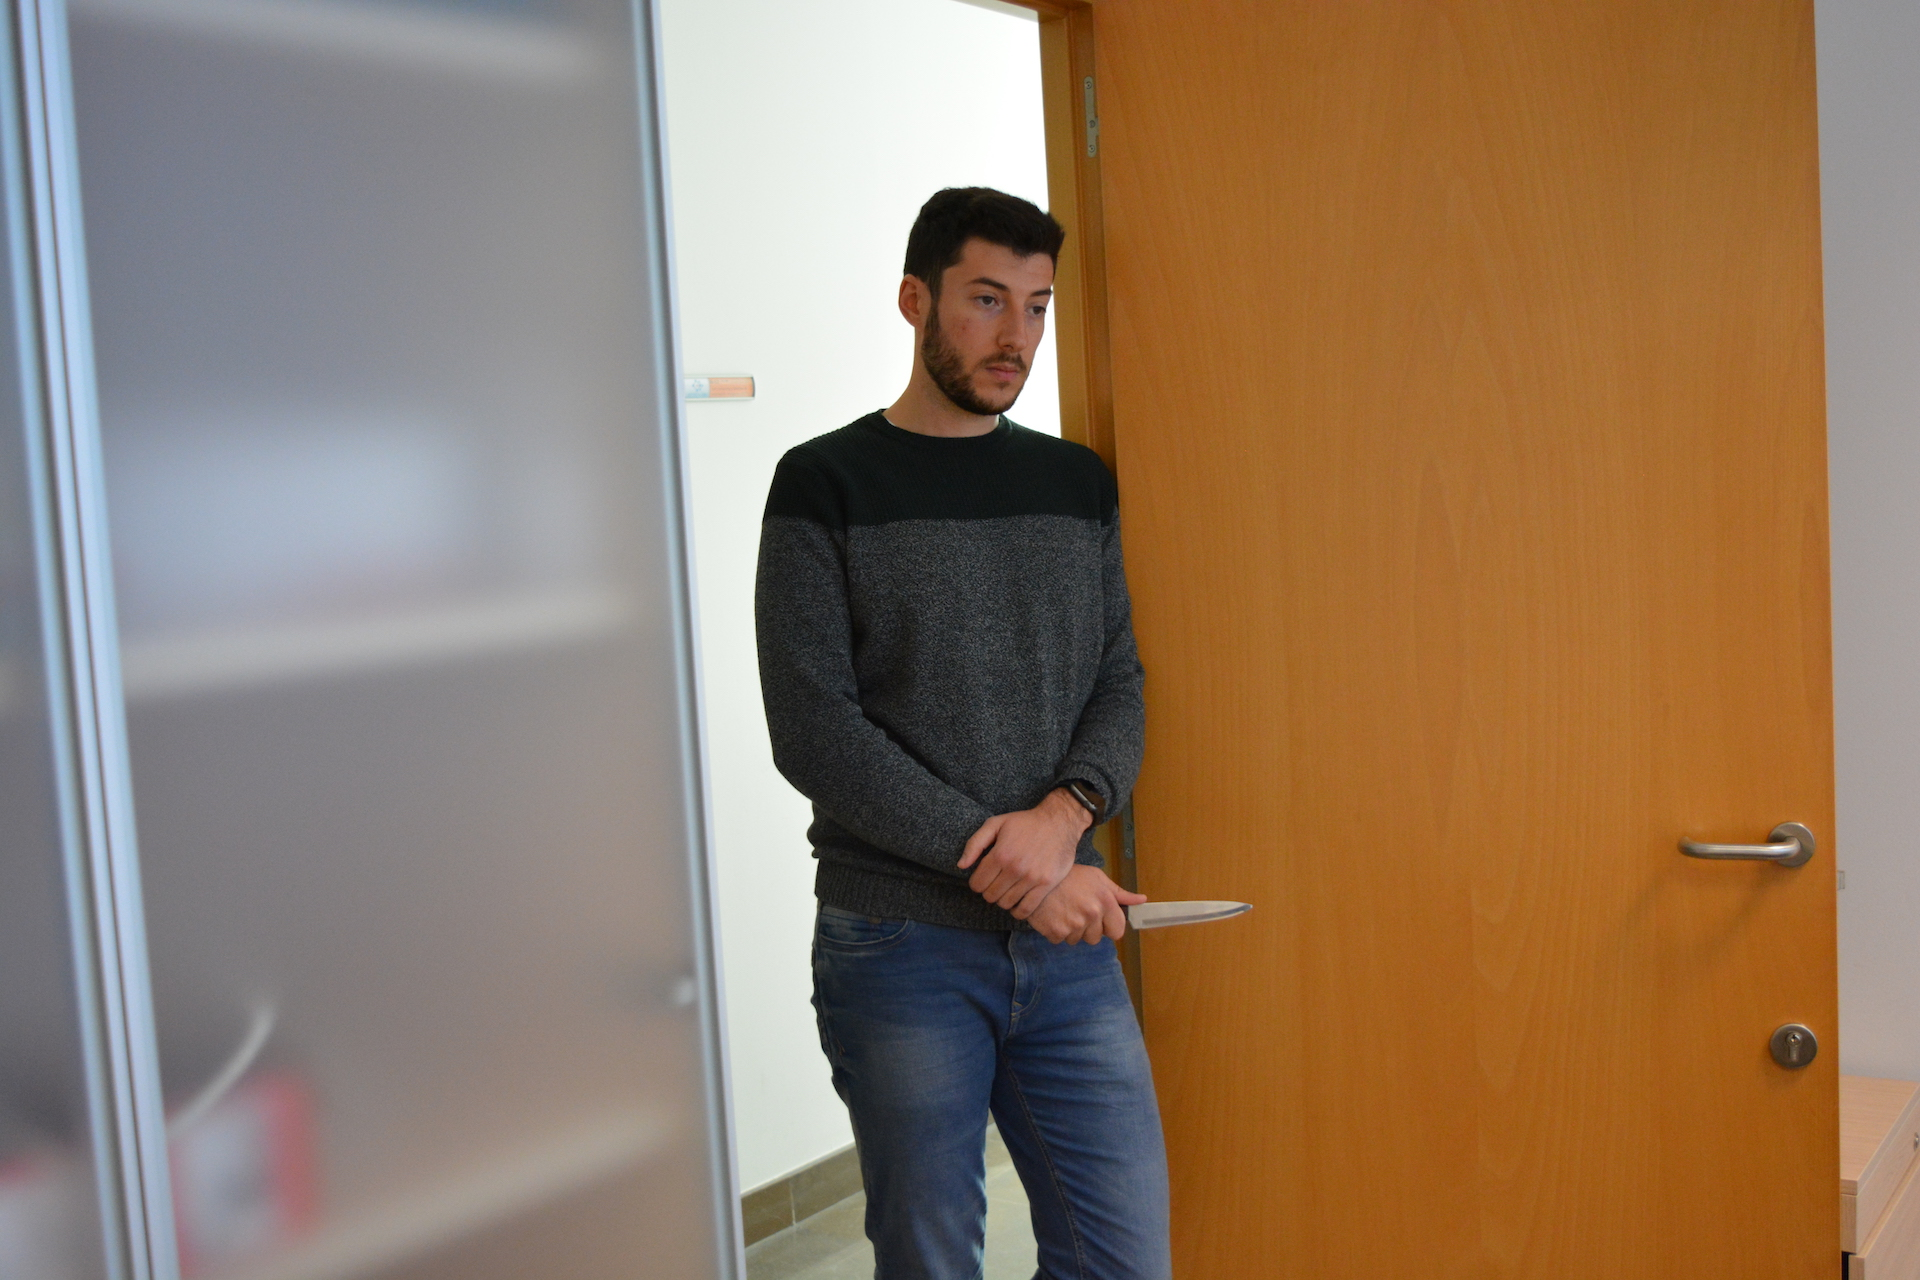knife: (1101, 883, 1270, 949)
